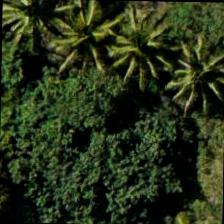Kelapa_Sawit: (173, 22, 223, 114)
